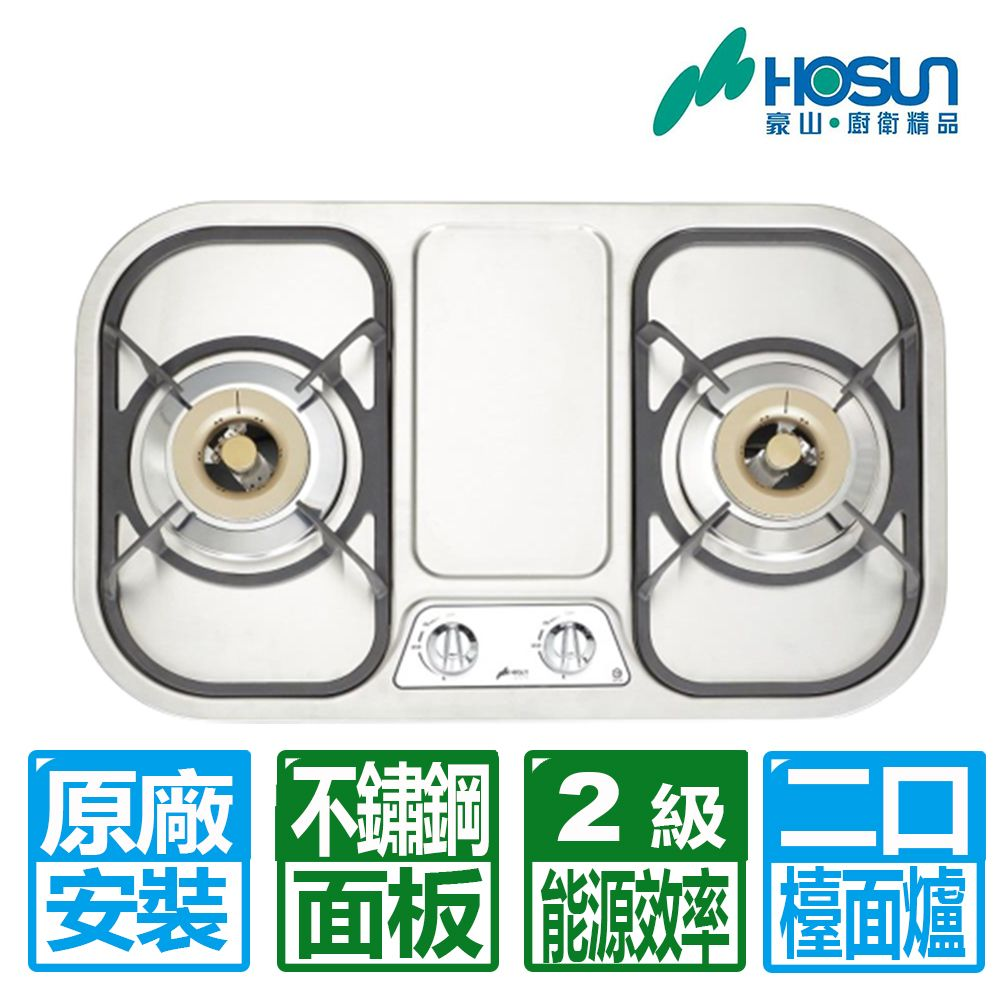gasoven: (67, 182, 960, 739)
